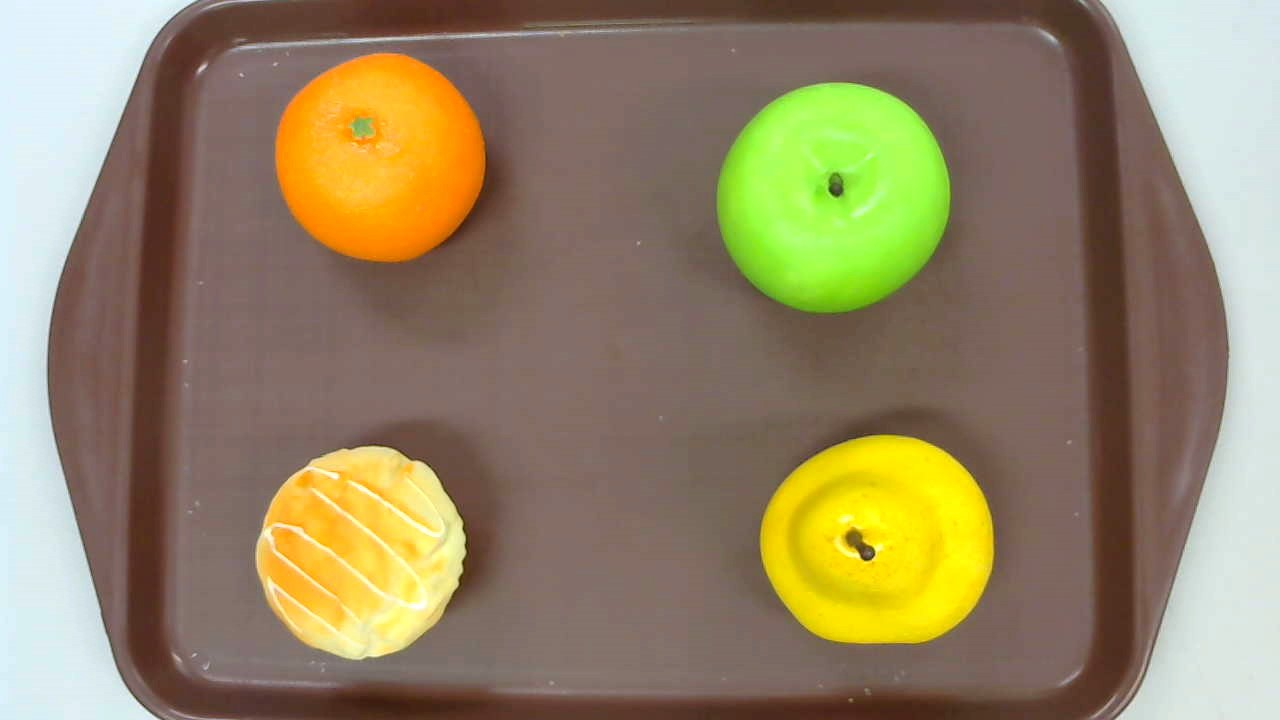cupcake: (255, 446, 466, 661)
green apple: (715, 82, 949, 315)
orange: (275, 53, 485, 262)
yellow pear: (759, 433, 994, 643)
